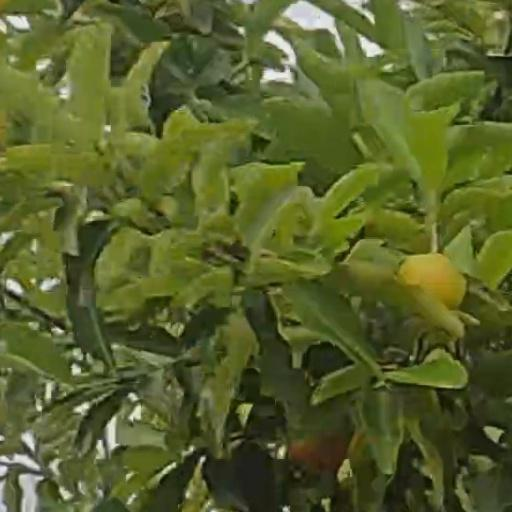acerola_verde: (403, 255, 465, 308)
